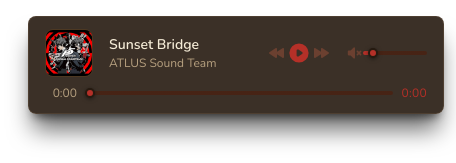
Test: MusicPlayer › wraps from the last track back to the first
Click the button named "Next track": (321, 53) [311,43,331,63]
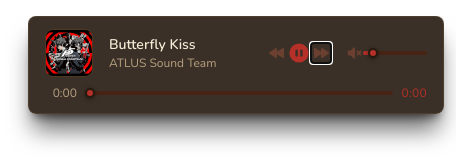
Click the button named "Next track": (321, 53) [311,43,331,63]
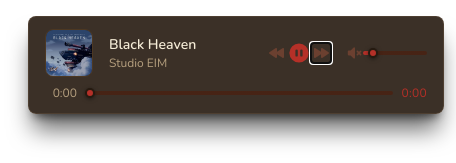
Click the button named "Next track": (321, 53) [311,43,331,63]
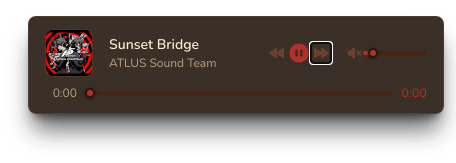
Expected: the heading "Sunset Bridge" is shown, [109,35,199,54]
